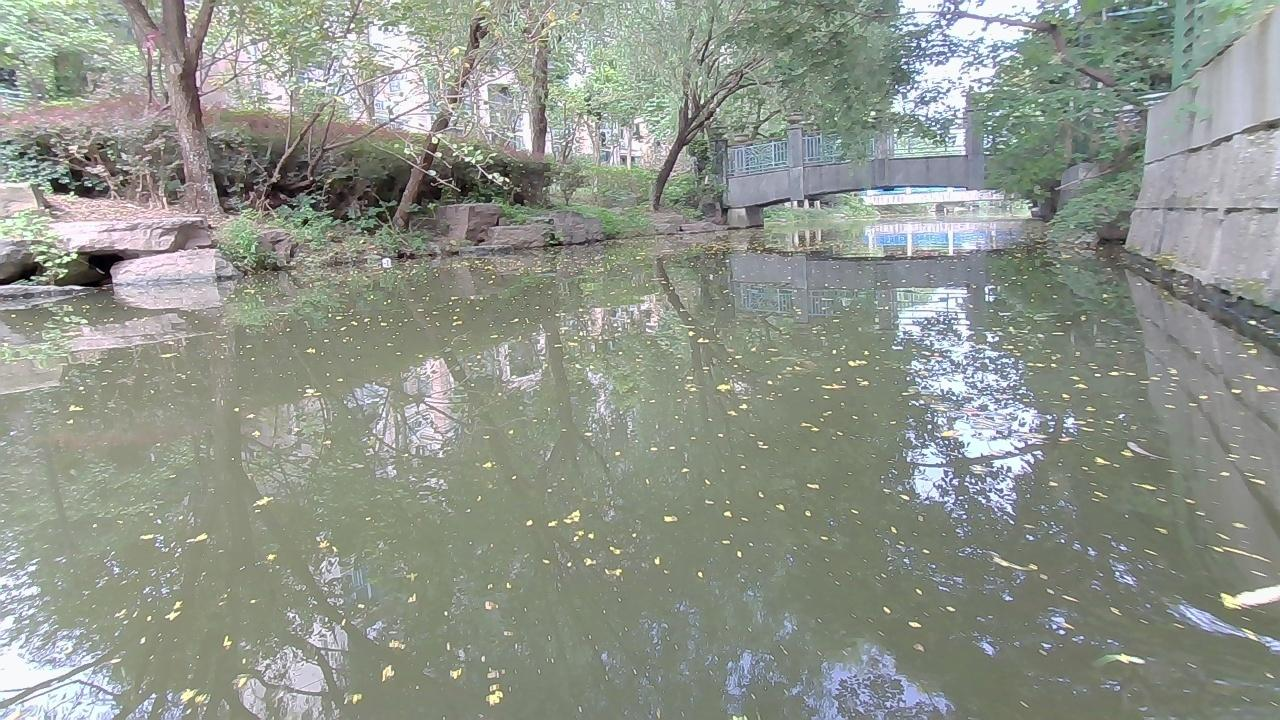bottle: (377, 255, 394, 270)
